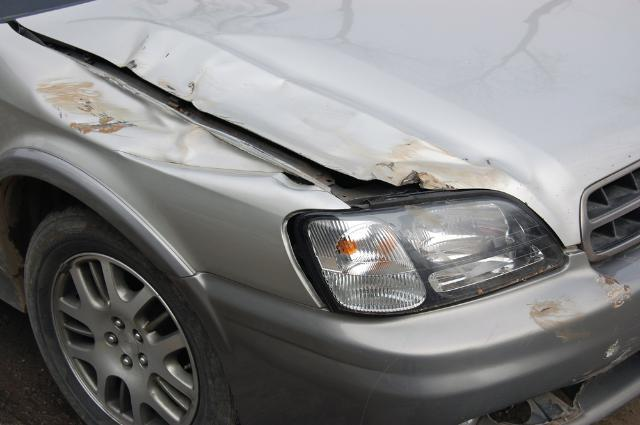dent: (61, 19, 473, 190), (35, 62, 284, 173)
dislocated part: (5, 19, 448, 213)
scratch: (525, 274, 640, 361)
